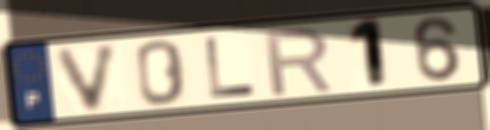0: (134, 37, 187, 109)
1: (345, 15, 392, 92)
6: (411, 15, 464, 84)
L: (202, 35, 260, 101)
R: (262, 26, 337, 99)
V: (52, 40, 125, 115)
